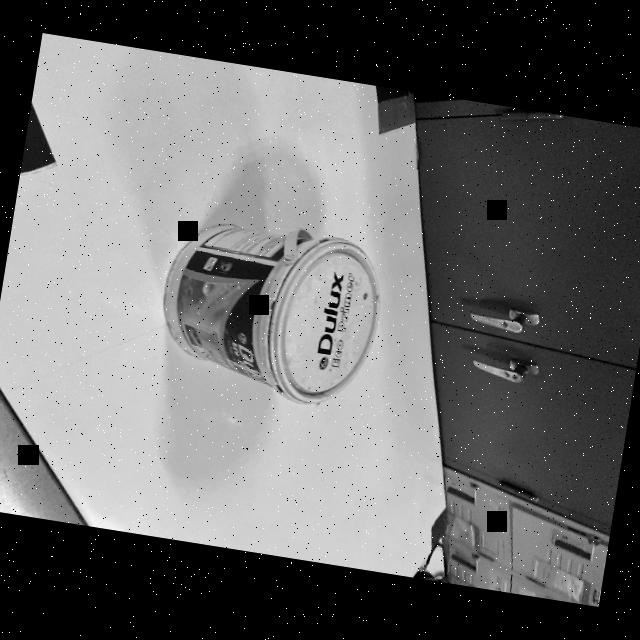paint_bucket: (145, 215, 391, 406)
